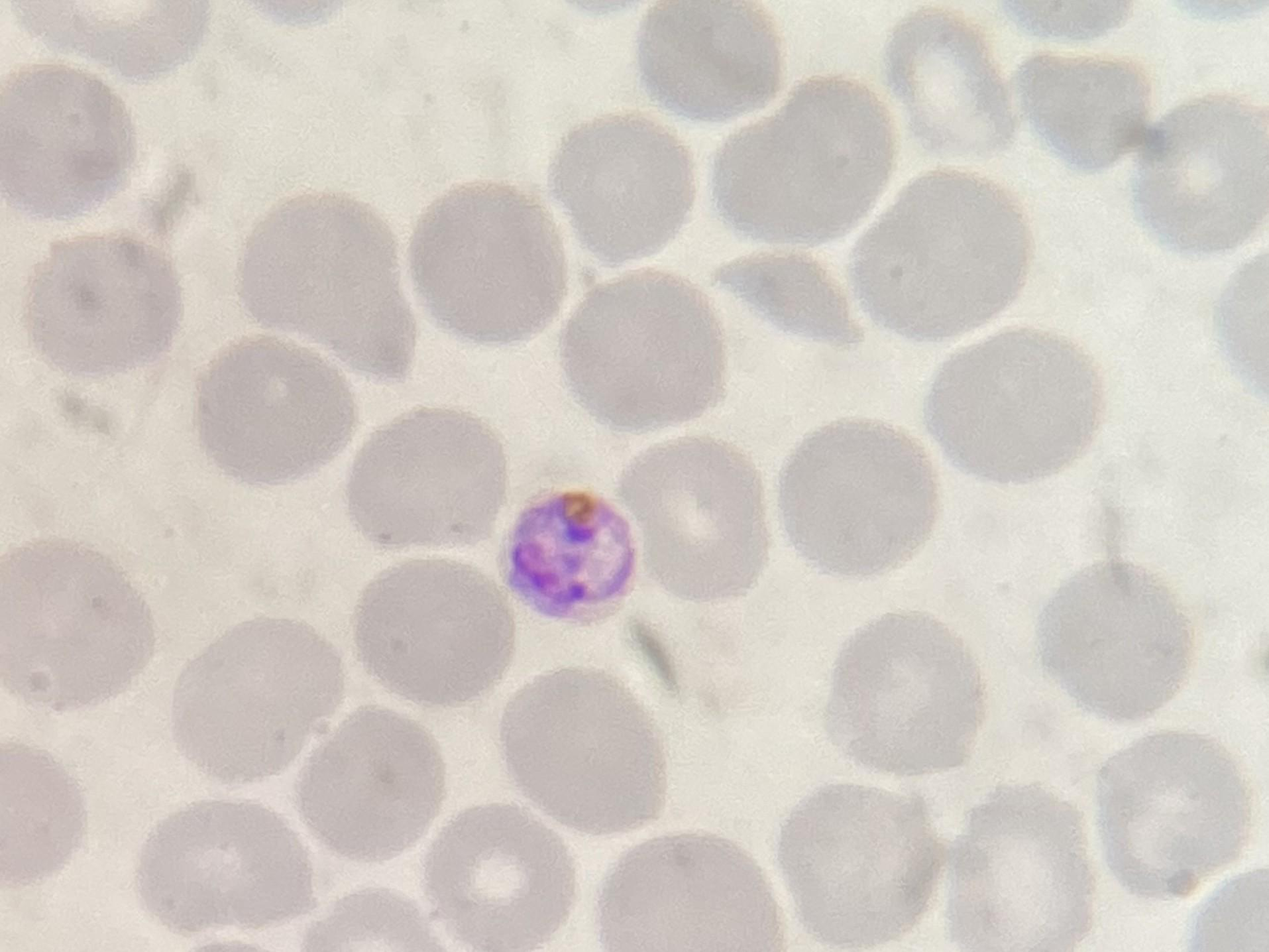Infected: (632, 329, 766, 461)
Uninfected: (852, 572, 1032, 762), (236, 608, 421, 786), (370, 703, 561, 875), (921, 169, 1101, 334), (539, 518, 712, 685), (600, 116, 772, 283), (325, 5, 496, 172), (166, 467, 345, 625), (1113, 244, 1269, 421), (281, 175, 447, 341), (328, 372, 497, 534), (700, 605, 863, 772), (75, 228, 237, 392), (19, 54, 174, 222), (496, 349, 651, 516), (174, 1, 329, 168), (749, 242, 917, 389), (952, 17, 1130, 155), (913, 465, 1075, 616), (573, 685, 724, 838), (821, 92, 971, 246), (762, 400, 923, 543), (1, 692, 140, 857), (1085, 575, 1242, 721), (692, 2, 846, 148), (488, 1, 671, 122), (249, 791, 390, 941), (1129, 735, 1267, 883), (485, 831, 631, 952), (112, 777, 254, 901), (406, 604, 558, 699)
